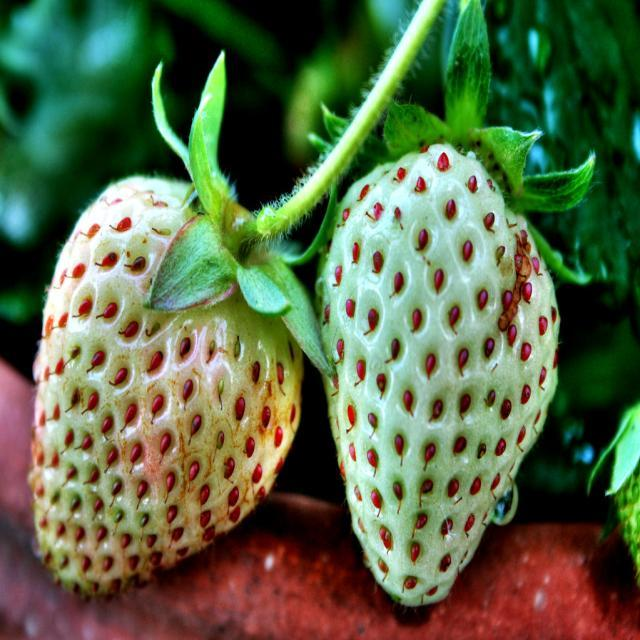unripe: (34, 176, 304, 594), (320, 141, 560, 610)
